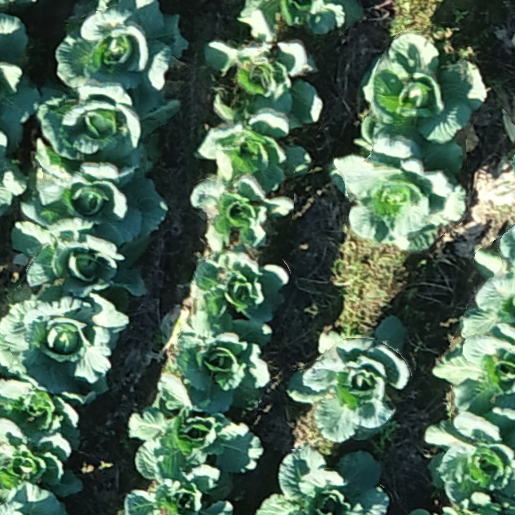Cabbage: (333, 133, 463, 253), (289, 315, 410, 441), (358, 34, 486, 147), (33, 83, 180, 175), (0, 295, 127, 394), (52, 0, 188, 92), (21, 162, 168, 247), (13, 219, 152, 302), (158, 310, 272, 411), (206, 42, 323, 127), (132, 407, 264, 479), (198, 111, 309, 195), (424, 409, 515, 511), (255, 450, 387, 515), (193, 178, 292, 252), (0, 419, 88, 501), (435, 325, 515, 414), (196, 249, 290, 320), (458, 224, 515, 340), (124, 456, 233, 515), (0, 379, 81, 453), (236, 0, 369, 43)
